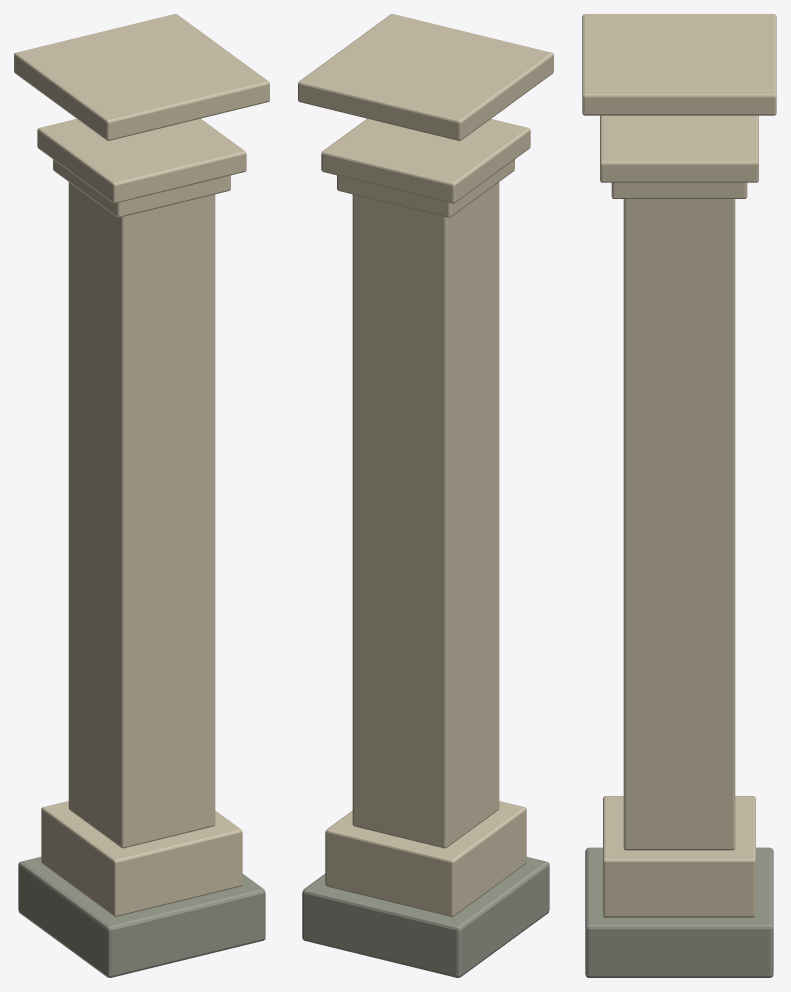
The model's file is source-edit.glb.
The picture shows the model from 3 angles, left to right: view 1: azimuth 30°, elevation 25°; view 2: azimuth 150°, elevation 25°; view 3: azimuth 270°, elevation 25°; orthographic projection. The views are drawn at different scales.
Visible parts, largest first — view 1: COLUMN_Shaft, COLUMN_Capital, COLUMN_Foot, COLUMN_Plinth, COLUMN_Capital.002, COLUMN_Capital.001; view 2: COLUMN_Shaft, COLUMN_Capital, COLUMN_Foot, COLUMN_Plinth, COLUMN_Capital.002, COLUMN_Capital.001; view 3: COLUMN_Shaft, COLUMN_Capital, COLUMN_Foot, COLUMN_Plinth, COLUMN_Capital.002, COLUMN_Capital.001.
Part boxes in pixels (left/top/right/bottom): COLUMN_Shaft: left=68, top=182, right=215, bottom=848; COLUMN_Capital: left=14, top=14, right=269, bottom=140; COLUMN_Foot: left=18, top=857, right=265, bottom=977; COLUMN_Plinth: left=41, top=801, right=242, bottom=916; COLUMN_Capital.002: left=37, top=118, right=246, bottom=203; COLUMN_Capital.001: left=53, top=159, right=230, bottom=217; COLUMN_Shaft: left=352, top=182, right=499, bottom=848; COLUMN_Capital: left=298, top=14, right=553, bottom=140; COLUMN_Foot: left=302, top=857, right=549, bottom=977; COLUMN_Plinth: left=325, top=801, right=526, bottom=916; COLUMN_Capital.002: left=321, top=118, right=530, bottom=203; COLUMN_Capital.001: left=337, top=159, right=514, bottom=217; COLUMN_Shaft: left=623, top=199, right=735, bottom=850; COLUMN_Capital: left=582, top=14, right=776, bottom=115; COLUMN_Foot: left=585, top=847, right=773, bottom=977; COLUMN_Plinth: left=603, top=796, right=755, bottom=917; COLUMN_Capital.002: left=600, top=115, right=758, bottom=182; COLUMN_Capital.001: left=611, top=182, right=747, bottom=198.
Bounding box in the file's own units: 0.66 × 3.32 × 0.66.
